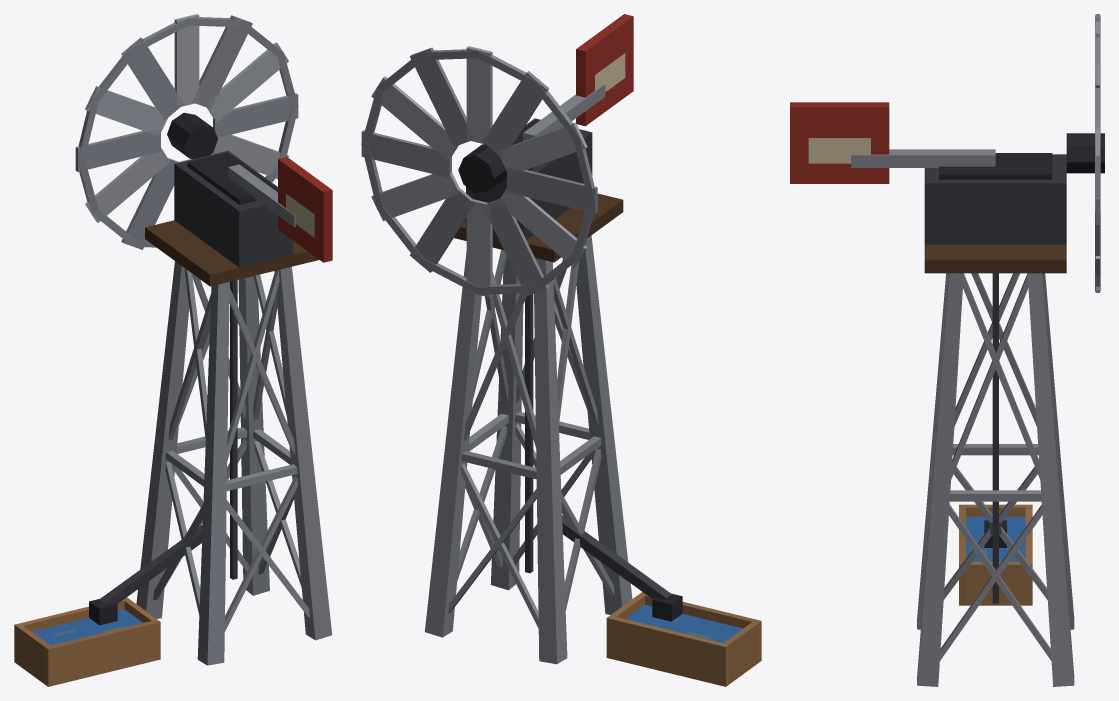
The model's file is Decor_WesternSaloon_Windmill.fbx.
3 renders of one model, left to right at view 1: azimuth 30°, elevation 25°; view 2: azimuth 150°, elevation 25°; view 3: azimuth 270°, elevation 25°, orthographic. The views are drawn at different scales.
Visible parts, largest first — view 1: Windmill_Body; view 2: Windmill_Body; view 3: Windmill_Body.
Boxes of the visible parts, x1,y1,x2,y2 form: Windmill_Body: (14,14,332,686); Windmill_Body: (361,14,761,686); Windmill_Body: (790,14,1104,686).
Size of the model in its own units: 13.9 by 24.4 by 11.1.
